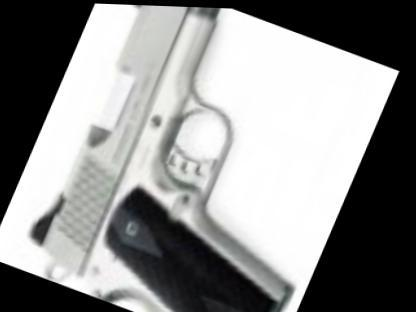pistol: (6, 0, 391, 311)
